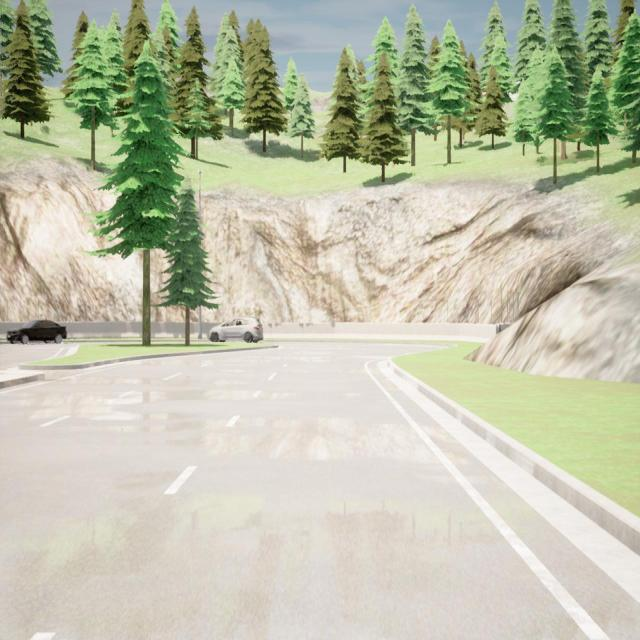Vehicle: (6, 320, 66, 343), (209, 317, 263, 342)
